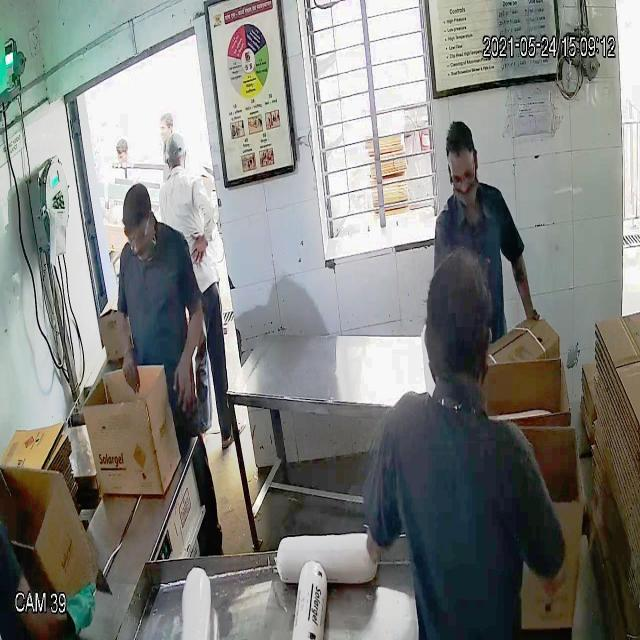glasses: (123, 212, 159, 252)
